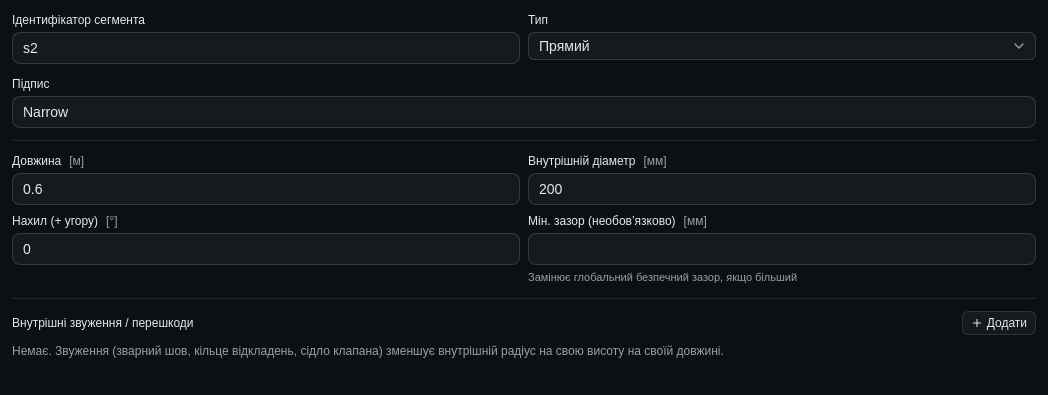
Test case: SegmentForm › does not commit invalid values and reports duplicate IDs
Replace the text in the number field labelled "Внутрішній діаметр [мм]" with "5" at (782, 189), box [528, 173, 1036, 205]
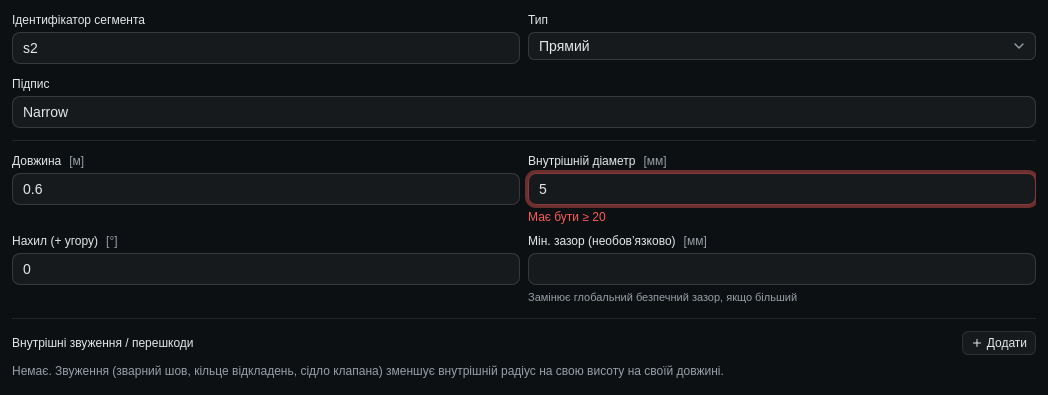
Result: the text "Має бути ≥ 20" is shown at [528, 210, 606, 224]
Replace the text in the number field labelled "Внутрішній діаметр [мм]" with "200" at (782, 189), box [528, 173, 1036, 205]
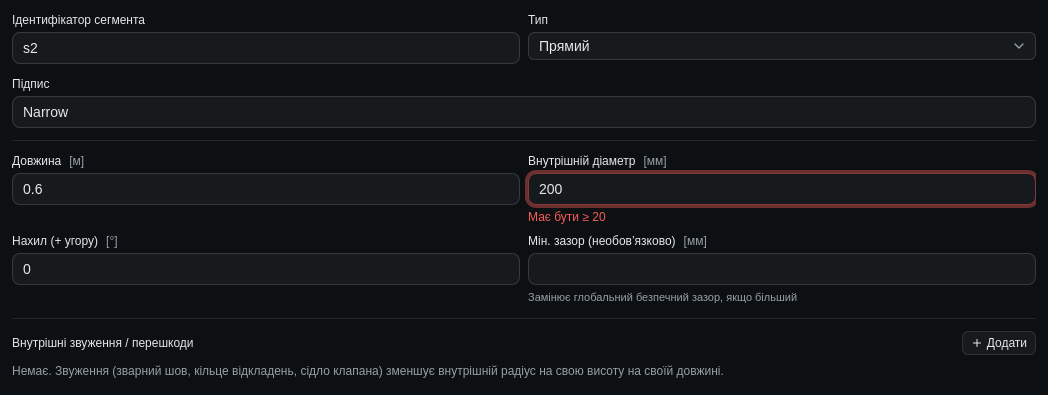
Replace the text in the field labelled "Ідентифікатор сегмента" with "s1" at (266, 48), box [12, 32, 520, 64]
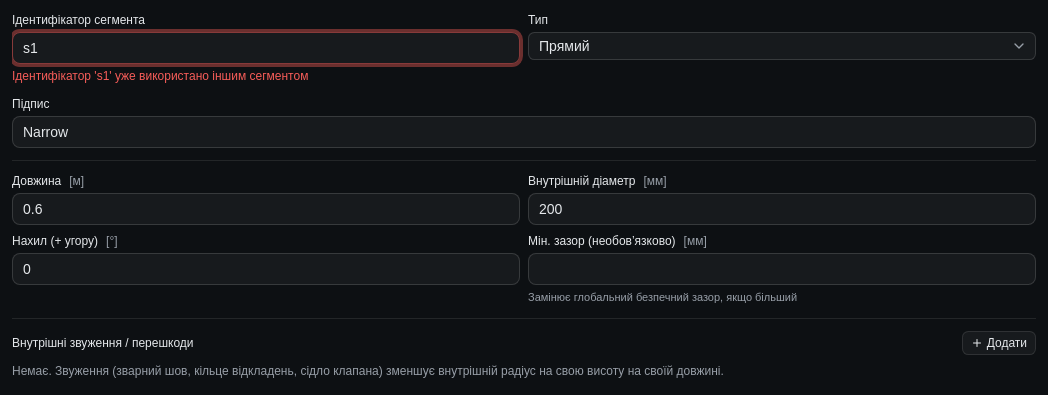
Result: the text "Ідентифікатор 's1' уже використано іншим сегментом" is shown at [12, 69, 308, 83]
